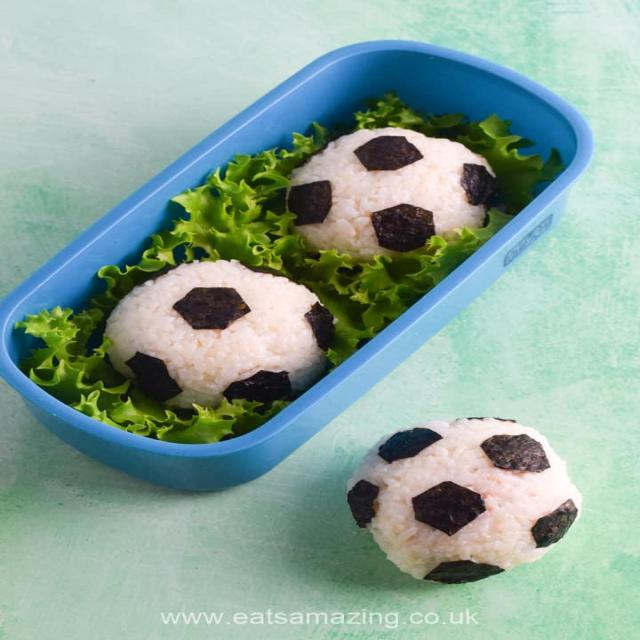ball: (337, 406, 605, 588)
